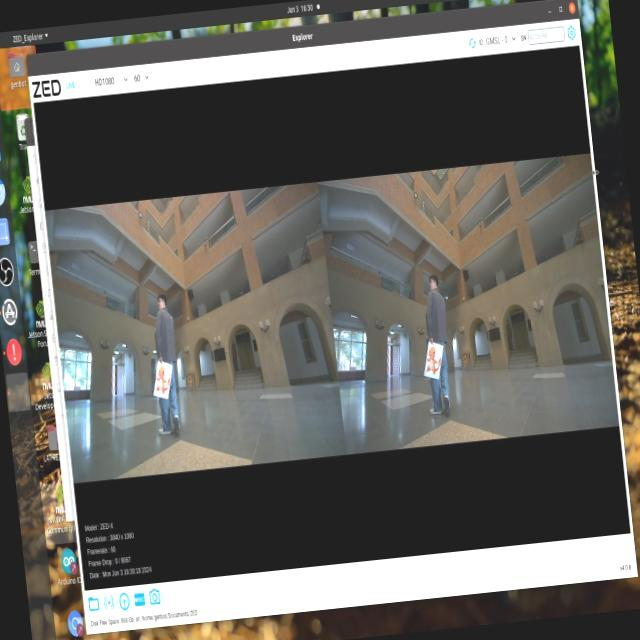red: (422, 340, 447, 382), (150, 358, 173, 402)
